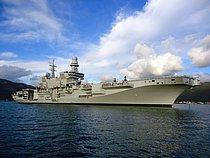MIL_Ship: (10, 55, 202, 108)
